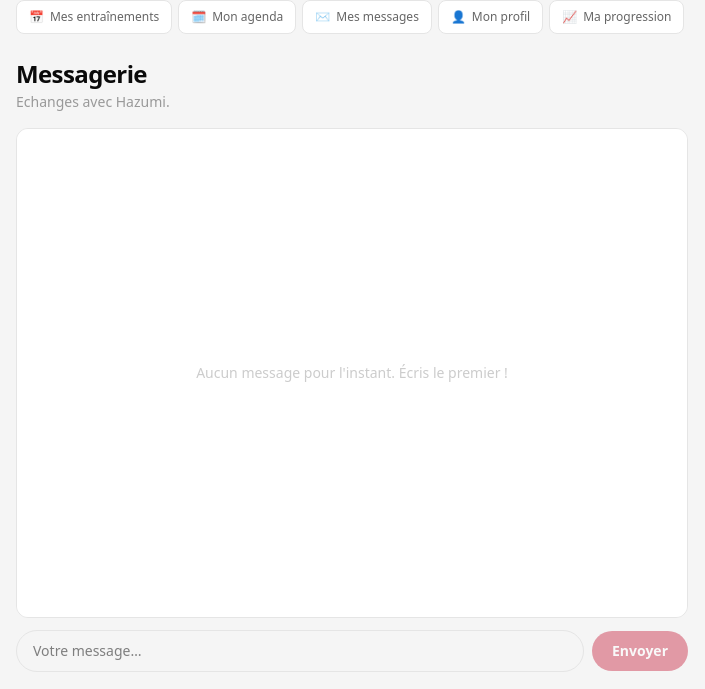
Messages (chat judoka) › le bouton Envoyer est désactivé si le champ est vide
This screenshot has width=705, height=689.
Expected: the button "Envoyer" is disabled, [592,631,688,671]
Type "Coucou" into the field with placeholder "Votre message…" at (300, 651), box [16,630,584,672]
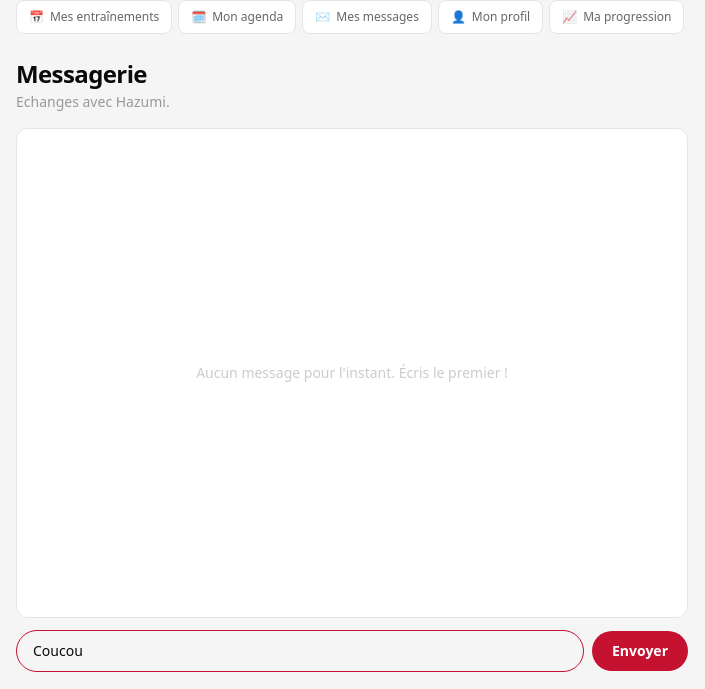
Expected: the button "Envoyer" is enabled, [592,631,688,671]
